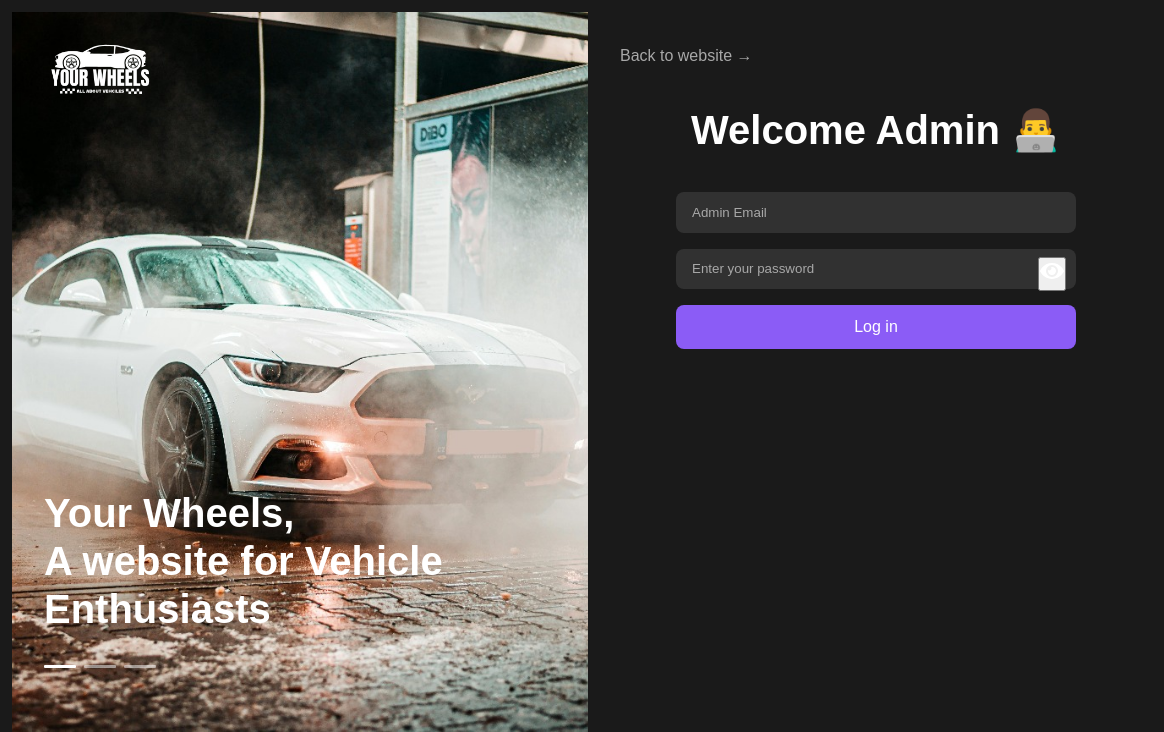
AdminLogin Component › shows error on failed login
Step 1. Type "wrong@example.com" into the field with placeholder "Admin Email" → {"x": 876, "y": 212}, box [676, 192, 1076, 233]
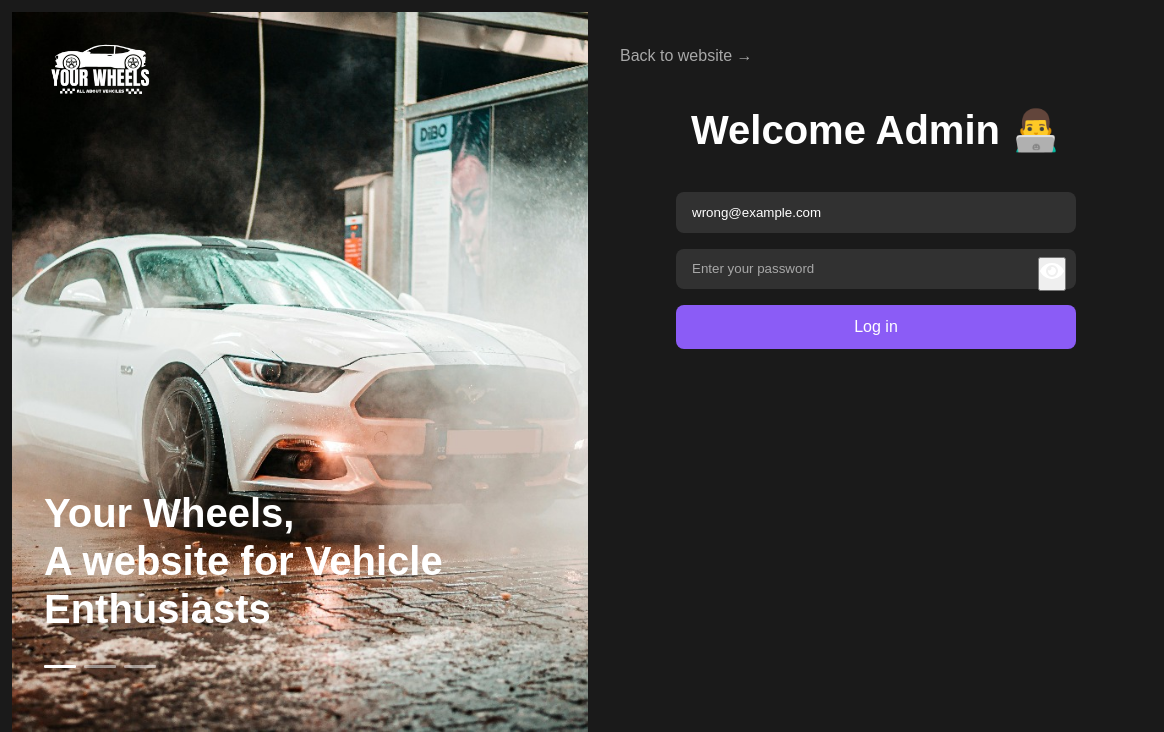
Step 2. Type "wrongpass" into the password field with placeholder "Enter your password" → {"x": 876, "y": 269}, box [676, 249, 1076, 289]
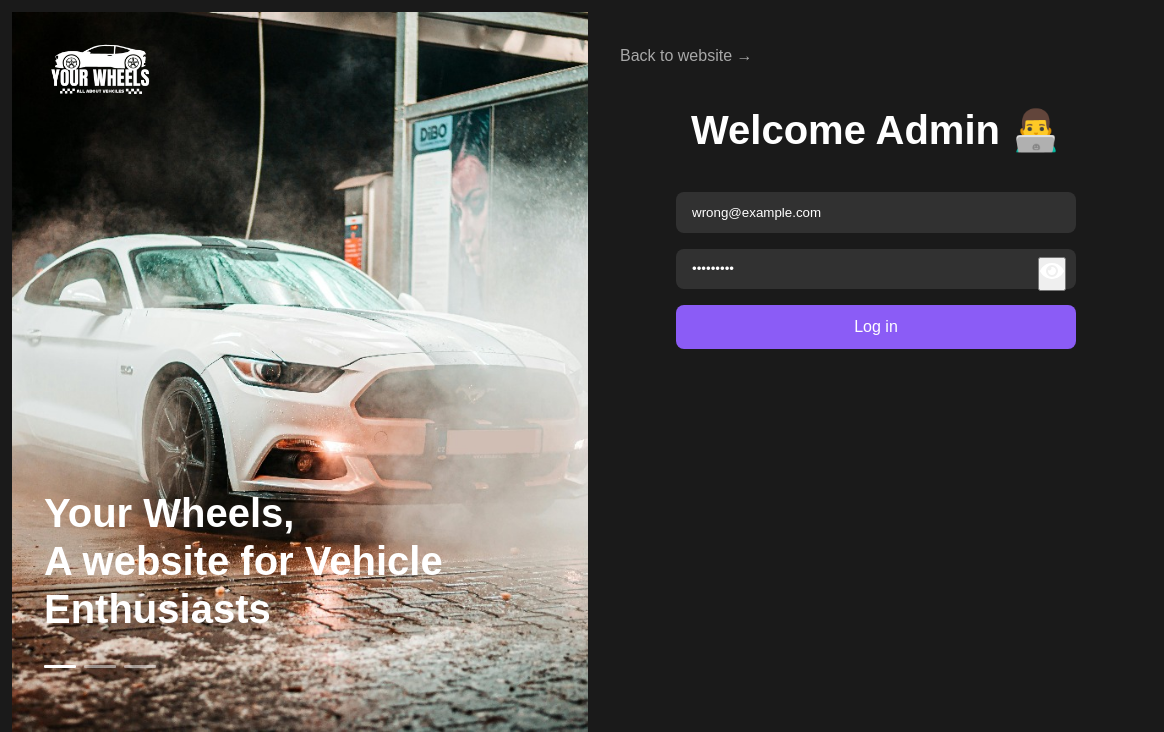
Step 3. Click the button "Log in" → {"x": 876, "y": 327}, box [676, 305, 1076, 349]
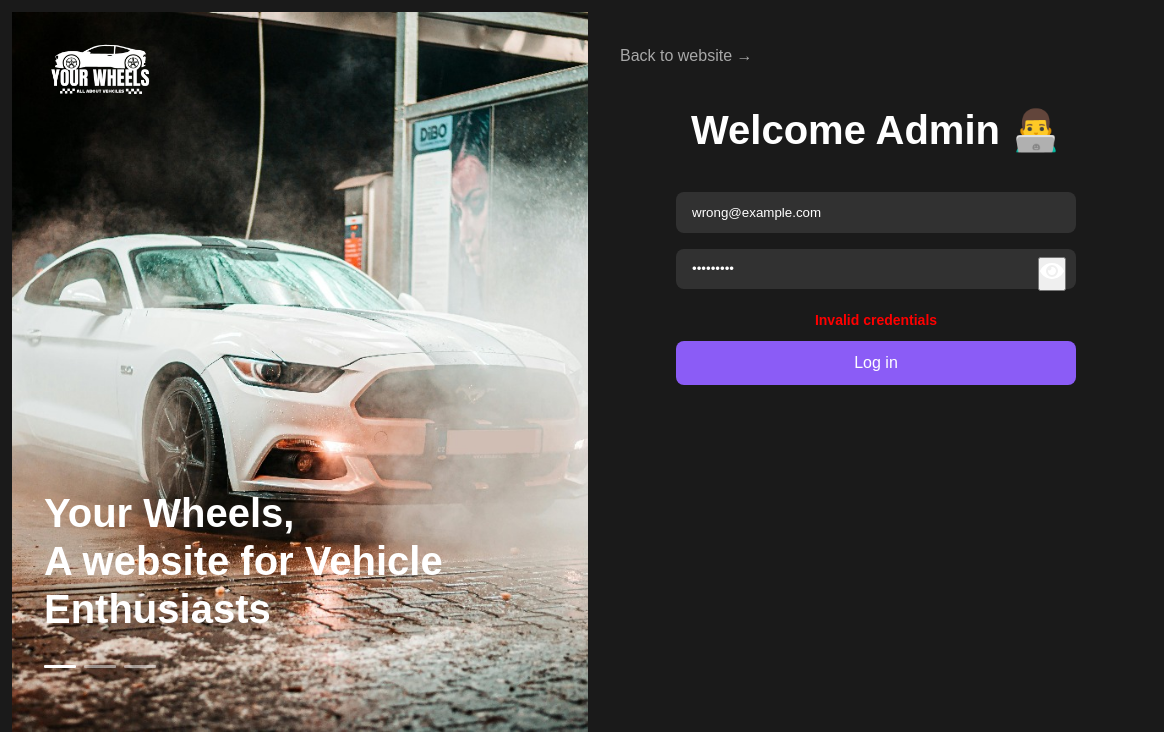
Check: the text "Invalid credentials" is shown, box [815, 312, 937, 328]
